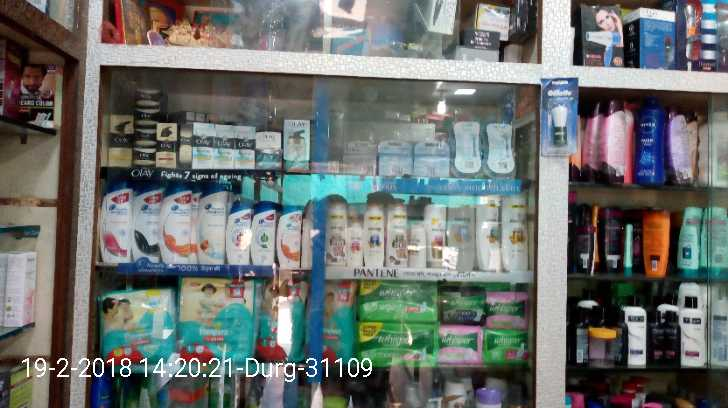venus: (484, 116, 521, 177), (451, 115, 482, 177), (343, 139, 380, 172), (414, 141, 448, 174), (380, 142, 413, 172)
